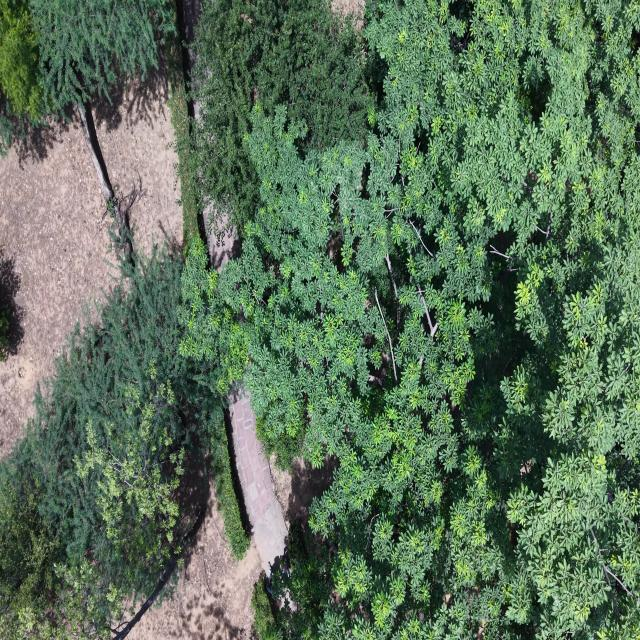DRY_AREA: (129, 390, 333, 639), (132, 391, 334, 639), (135, 388, 333, 639), (130, 395, 333, 639), (0, 115, 116, 456), (0, 117, 116, 457), (0, 117, 115, 457), (133, 387, 287, 639), (130, 393, 286, 639), (0, 122, 114, 456), (128, 399, 286, 639), (128, 457, 333, 639), (0, 124, 109, 456), (117, 459, 260, 639), (127, 484, 261, 639), (128, 486, 263, 639), (128, 488, 262, 639), (229, 384, 333, 578), (228, 383, 332, 575), (128, 491, 260, 639), (230, 386, 333, 575), (229, 389, 333, 569), (96, 75, 182, 254), (230, 385, 299, 575), (228, 383, 288, 575), (229, 383, 288, 575), (230, 386, 288, 575), (269, 455, 336, 545), (269, 455, 337, 532), (270, 455, 336, 527), (270, 456, 336, 527), (331, 0, 365, 29), (181, 0, 202, 45), (182, 0, 202, 43), (331, 0, 364, 17)
PATHWAYS: (229, 385, 288, 575), (230, 386, 287, 574), (230, 387, 287, 574)
VEGETATION_TREE: (0, 0, 639, 639), (216, 0, 639, 639), (0, 253, 248, 638), (0, 252, 230, 637), (28, 255, 221, 605), (502, 201, 639, 637), (0, 0, 176, 257), (192, 0, 376, 232), (30, 0, 175, 258), (0, 0, 176, 149), (29, 0, 175, 109), (0, 440, 61, 639), (177, 237, 246, 406), (179, 238, 247, 393), (259, 521, 336, 639), (165, 34, 201, 245), (0, 0, 45, 157), (0, 0, 44, 121), (0, 249, 23, 362), (252, 576, 276, 639), (0, 114, 13, 157), (0, 306, 9, 361)
